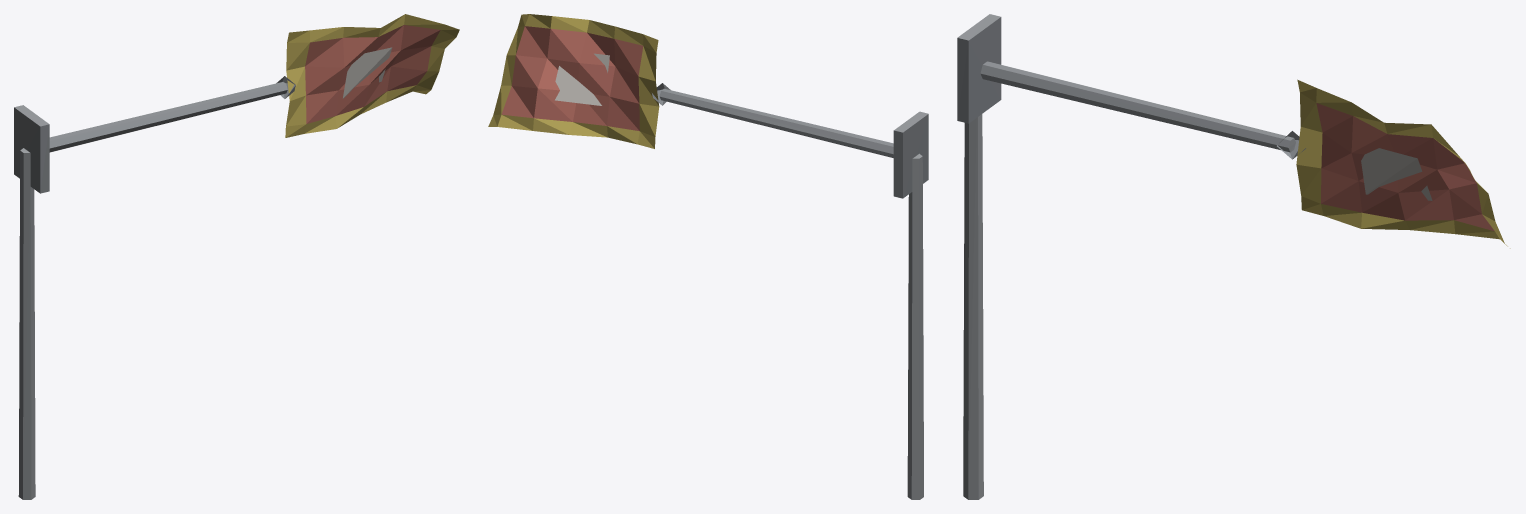
The model's file is flag.rect.chizhi__pole.horizontal.big__armFly.glb.
3 views of the same model, side by side, from view 1: azimuth 30°, elevation 25°; view 2: azimuth 150°, elevation 25°; view 3: azimuth 330°, elevation 25° (orthographic). The views are drawn at different scales.
Parts seen in each view (by area): view 1: flag.rect.chizhi; view 2: flag.rect.chizhi; view 3: flag.rect.chizhi.
Part boxes in pixels (<box>): flag.rect.chizhi: <box>14,14,459,499</box>; flag.rect.chizhi: <box>488,14,928,499</box>; flag.rect.chizhi: <box>957,14,1510,499</box>.
Bounding box in the file's own units: 4.09 × 3.7 × 0.5998.
